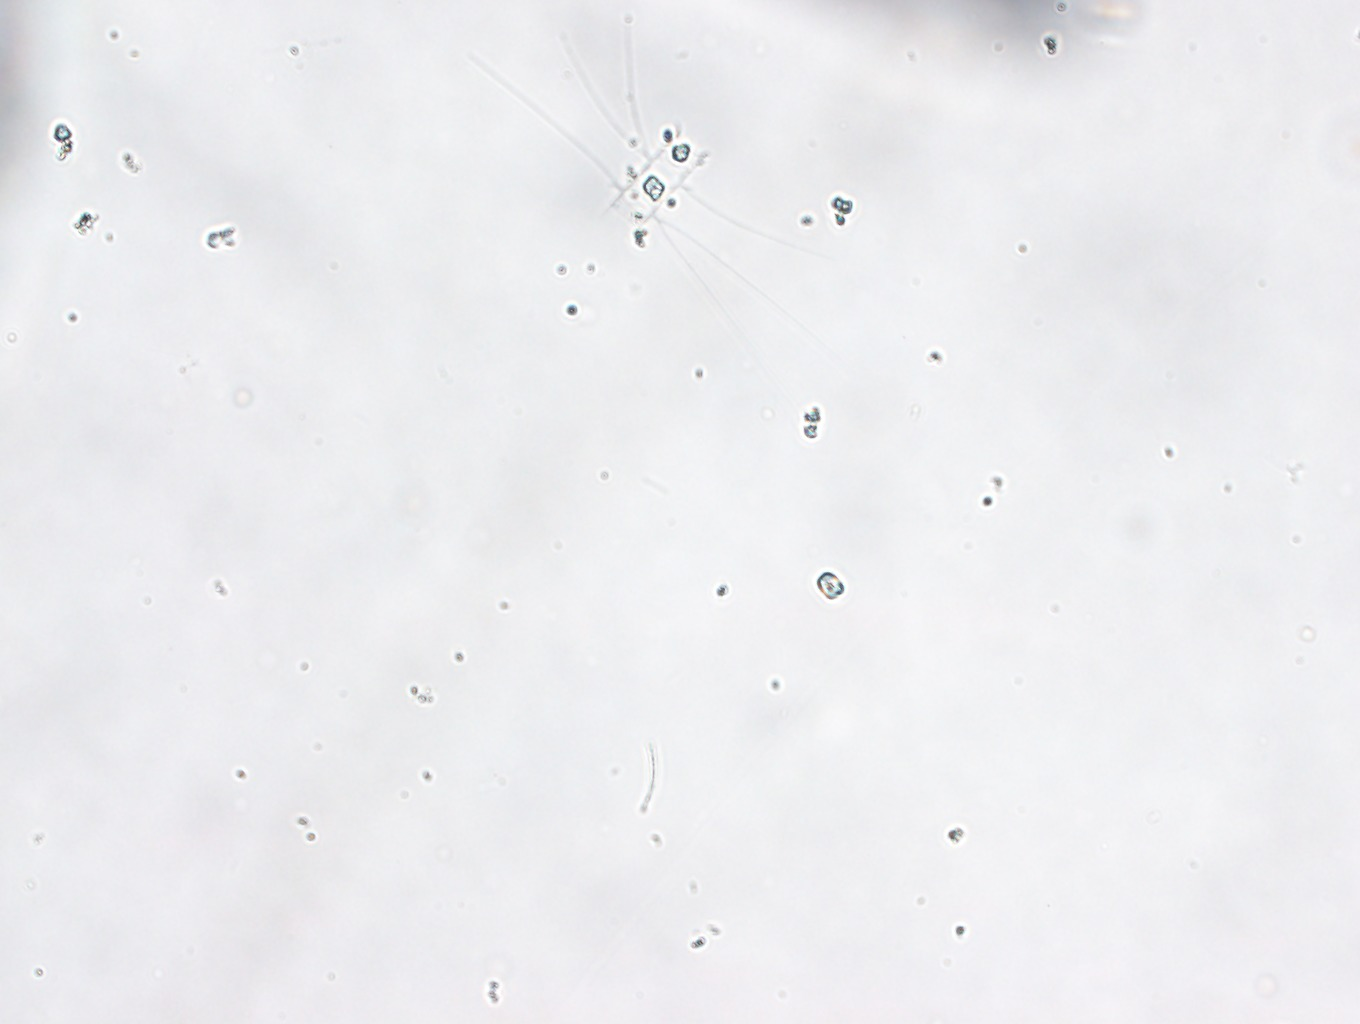chaetoceros: (469, 13, 855, 362)
